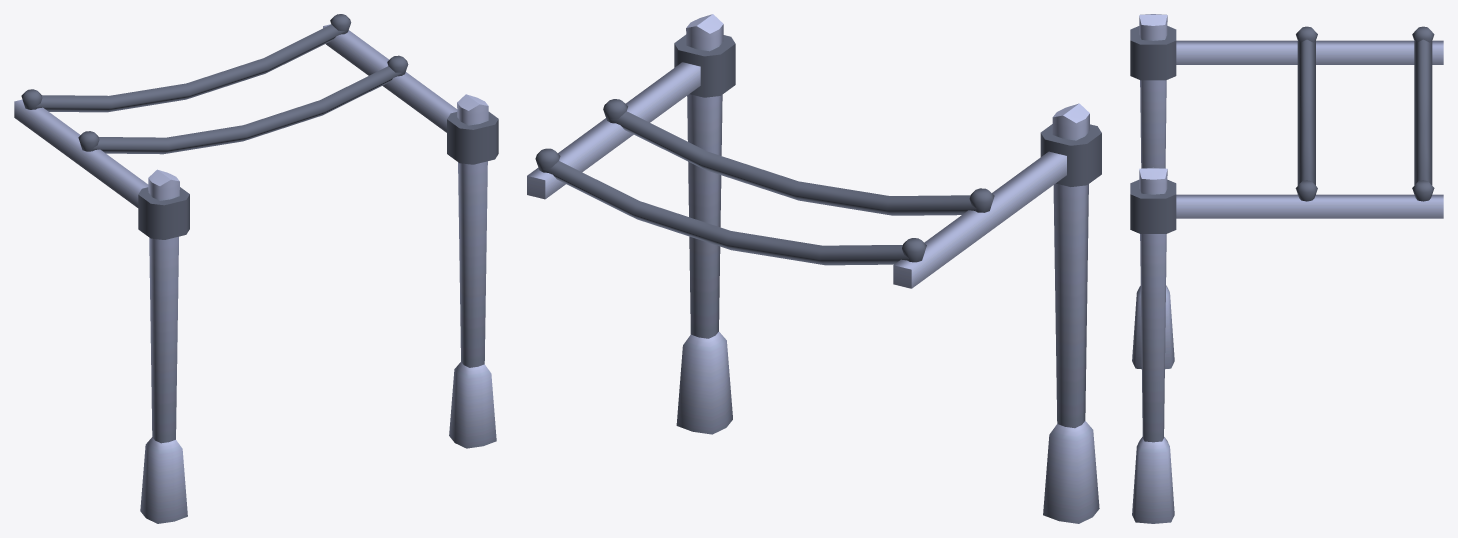
File: electricity-side.glb
3 renders of one model, left to right at view 1: azimuth 30°, elevation 25°; view 2: azimuth 150°, elevation 25°; view 3: azimuth 270°, elevation 25°, orthographic. The views are drawn at different scales.
Parts seen in each view (by area): view 1: electricity-side; view 2: electricity-side; view 3: electricity-side.
Boxes of the visible parts, x1,y1,x2,y2 form: electricity-side: [14, 14, 498, 523]; electricity-side: [527, 14, 1101, 523]; electricity-side: [1130, 14, 1443, 523].
Bounding box in the file's own units: 0.5634 × 0.525 × 0.4306.
Materials: 1 (1 with a texture image).
